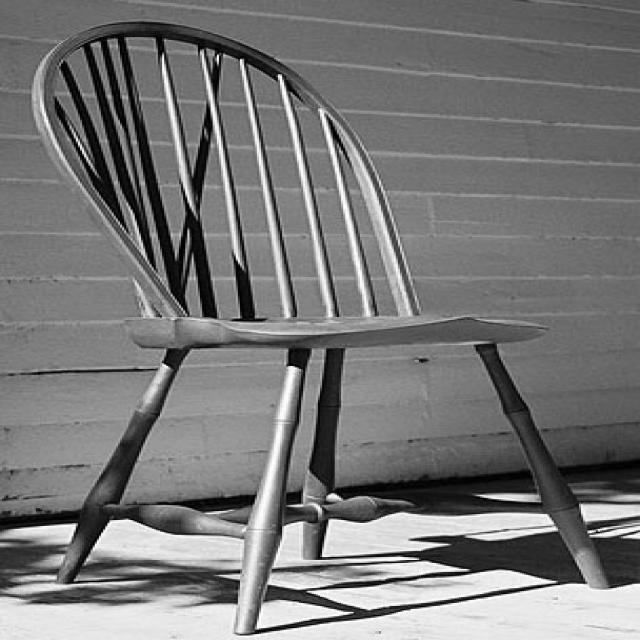chair: (22, 19, 614, 634)
